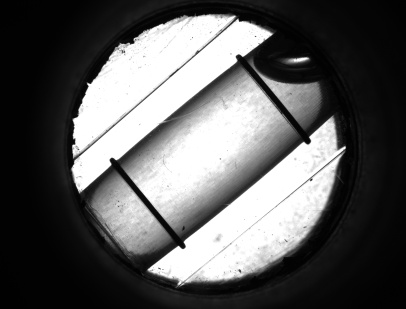line: (116, 177, 177, 228), (256, 90, 303, 123)
